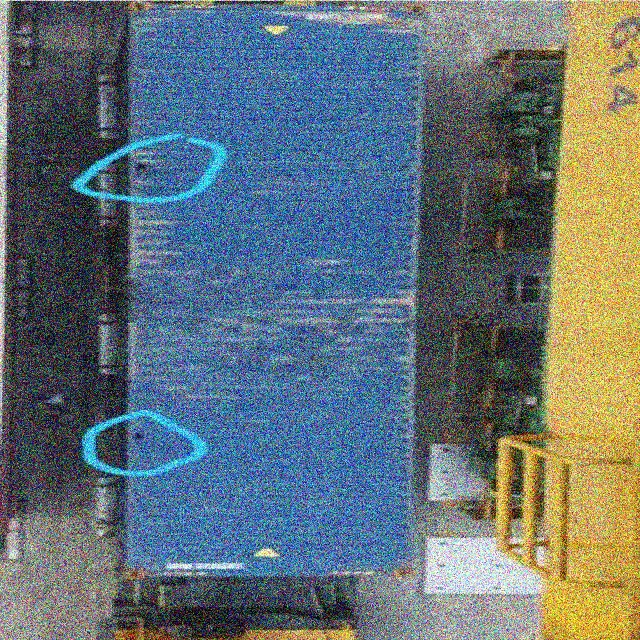Hole: (121, 162, 169, 173), (130, 430, 158, 448)
